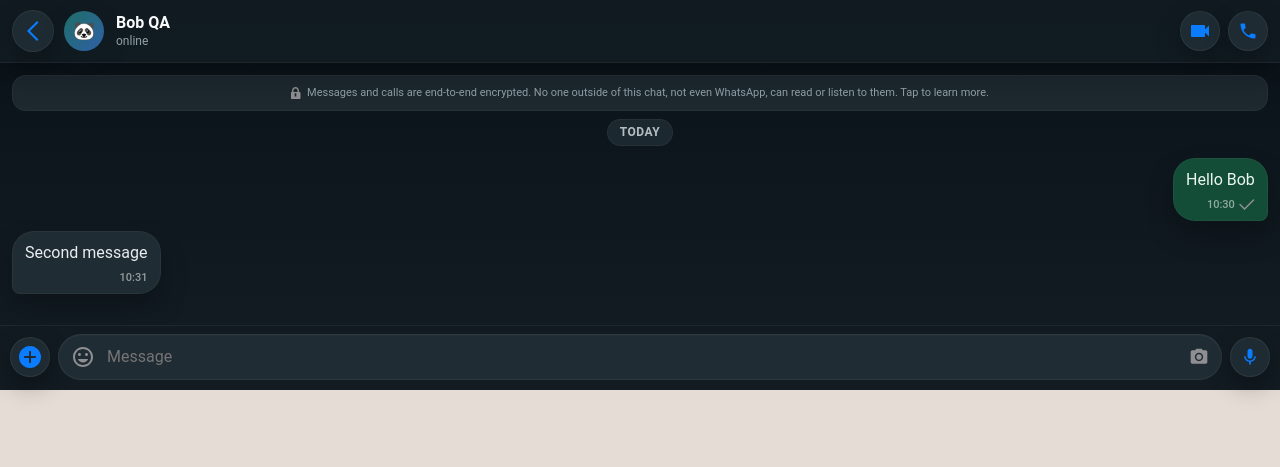
Test: ChatScreen › swipes a message to reply and exposes header actions while selected
Press the mouse on the element with test id "message-row-message-1" at (640, 190), box [12, 158, 1268, 221]
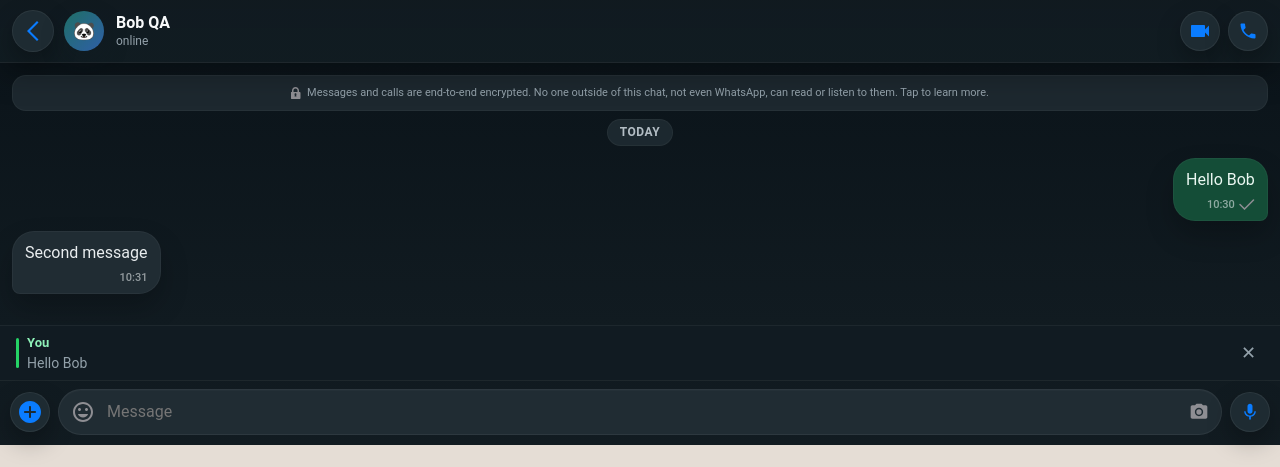
Expected: the text "You" is shown, [27, 335, 49, 350]
Right-click the element with test id "message-row-message-1" at (640, 190), box [12, 158, 1268, 221]
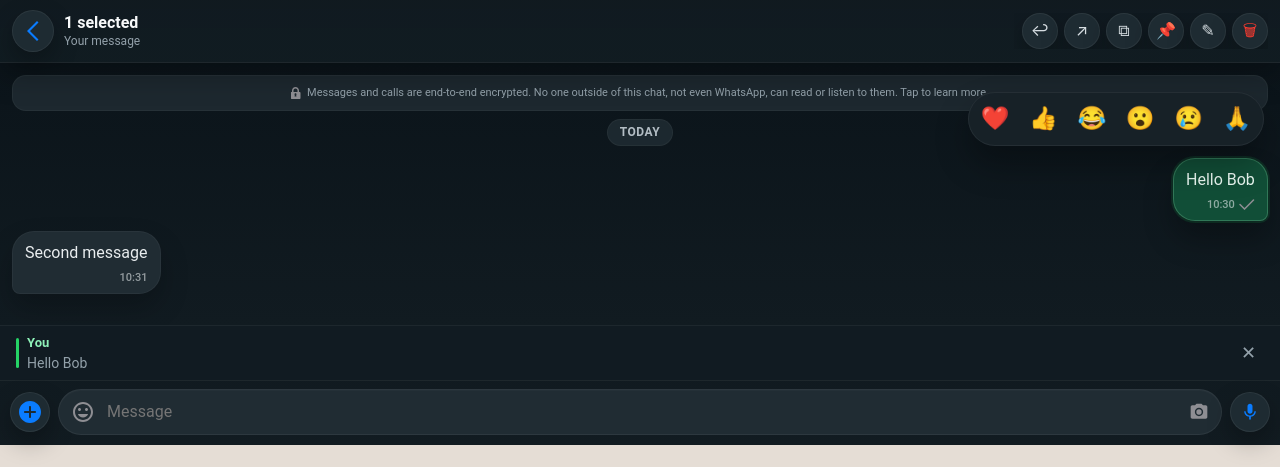
Expected: the element with test id "selected-message-header" is shown, [64, 13, 140, 48]
Click the element with test id "message-row-message-2" at (640, 263), box [12, 231, 1268, 295]
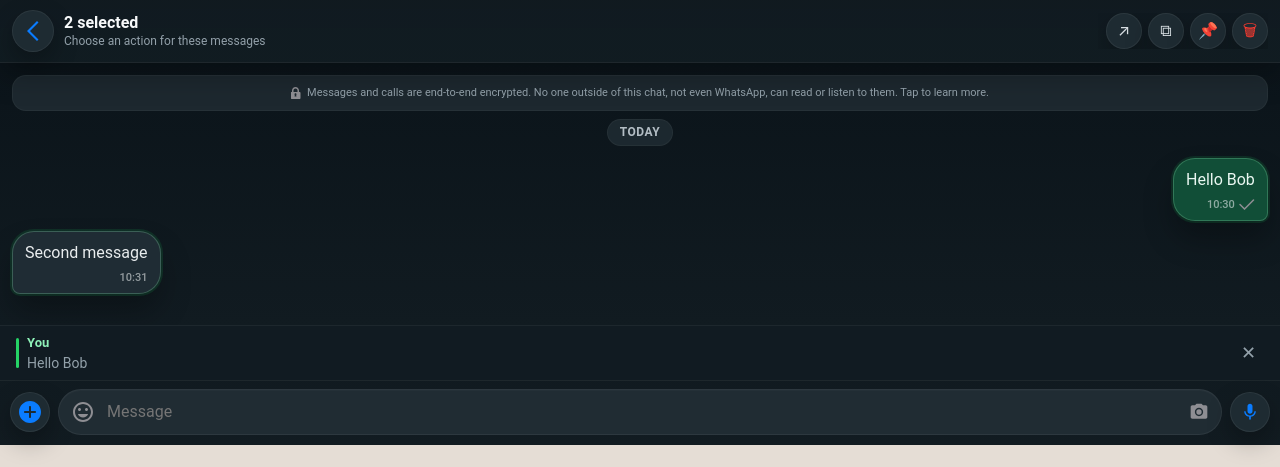
Expected: the text "2 selected" is shown, [64, 13, 138, 32]
Expected: the element with test id "message-context-menu" is gone
Expected: the button with test id "message-action-reply" is gone
